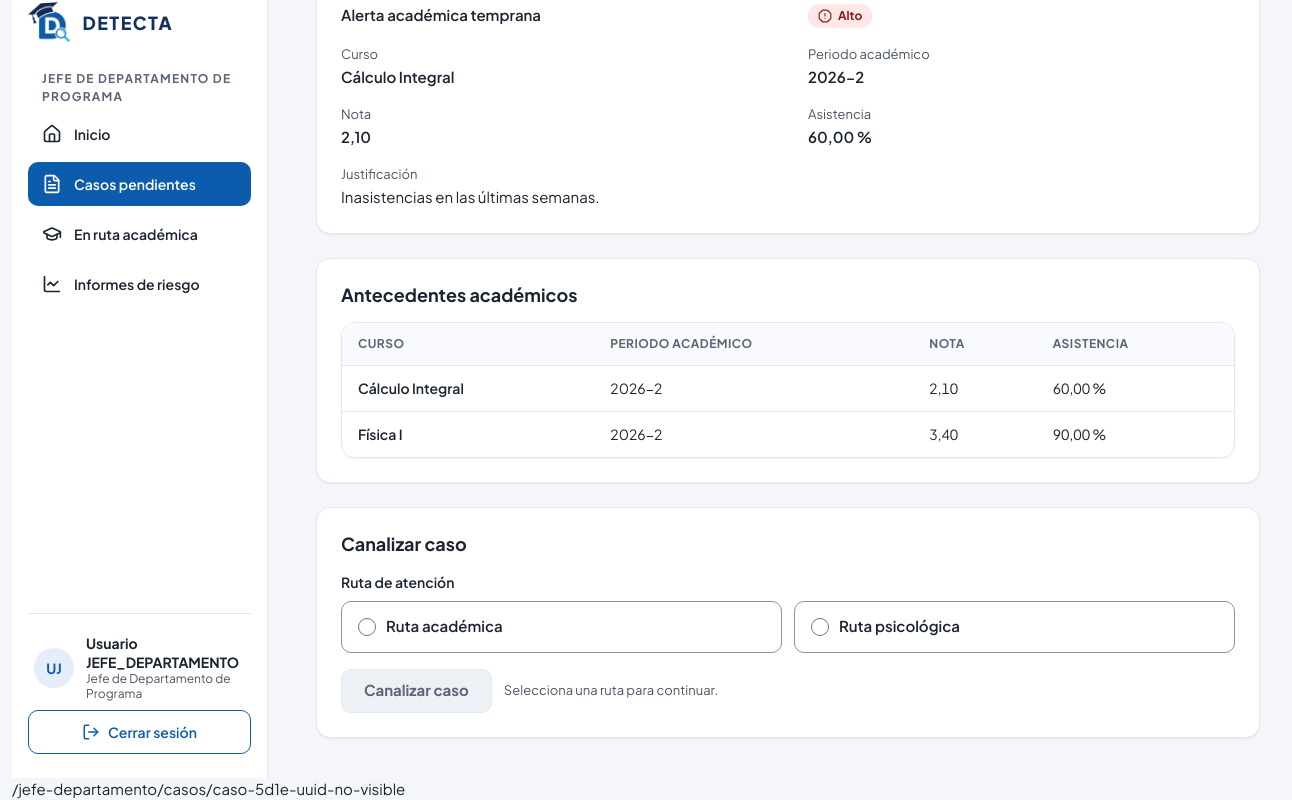
Test: Plan de nivelación (CUD05) › cursos del estudiante como opciones y límites del contrato
(page scrolled)
Click the radio button labelled "Ruta académica": {"x": 367, "y": 627} [358,618,376,636]
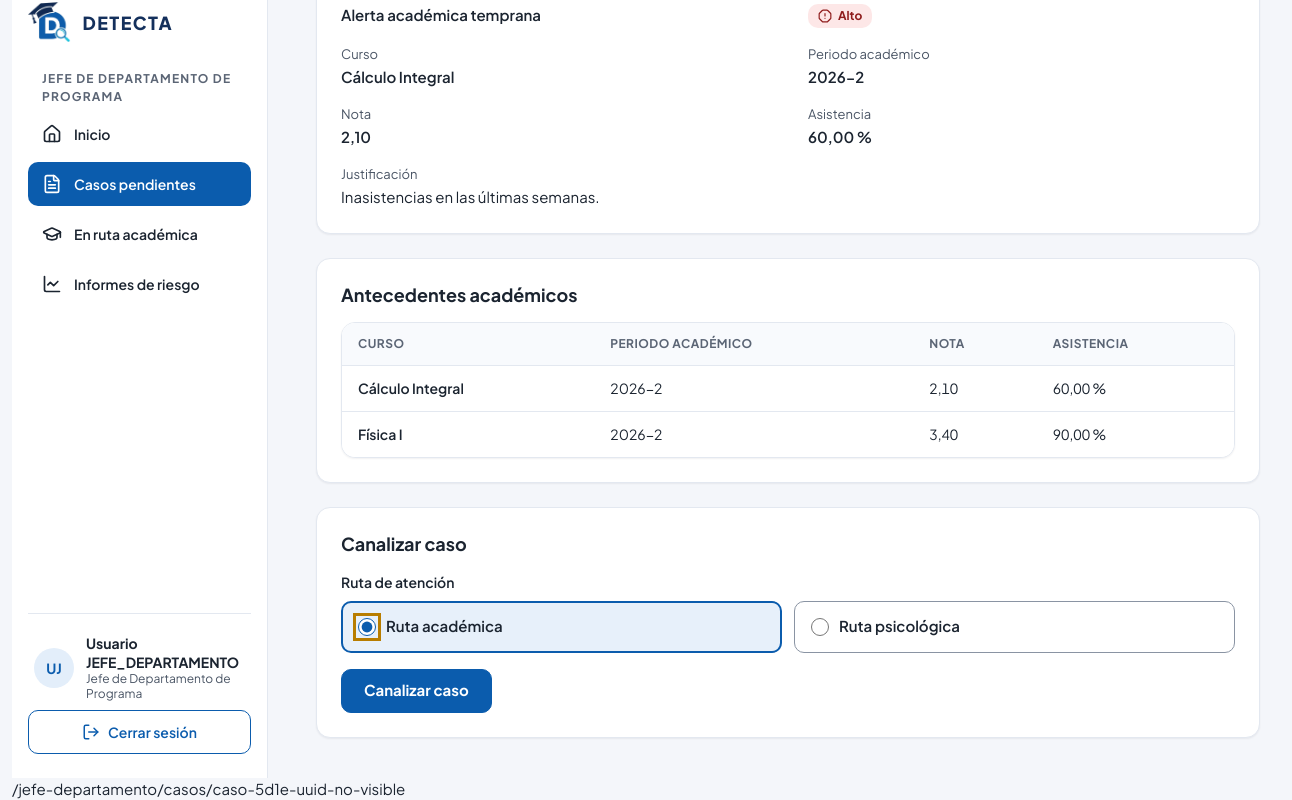
Click the button "Canalizar caso": {"x": 416, "y": 691} [341,669,492,713]
(page scrolled)
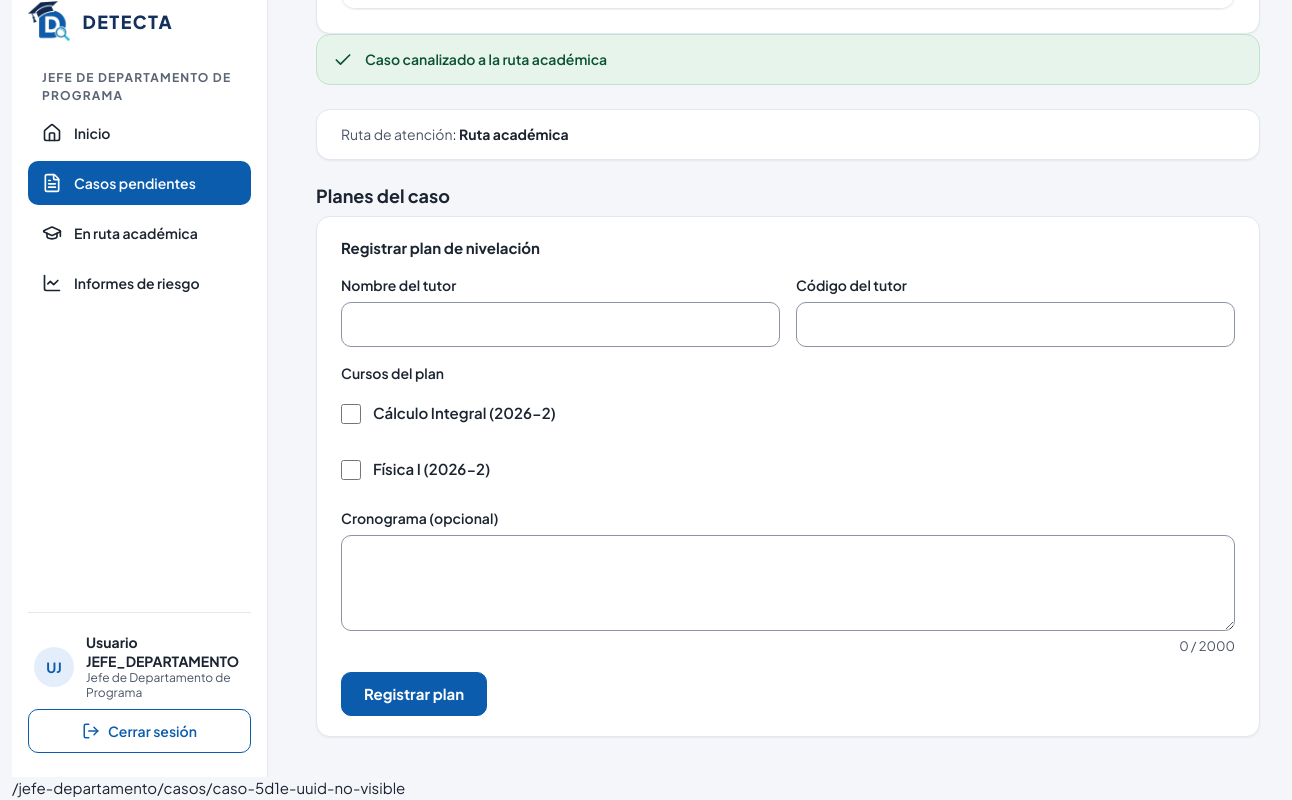
Expected: the heading "Planes del caso" is shown, [316,184,450,207]
Expected: the checkbox labelled "Física I (2026-2)" is not checked, [341,460,361,480]
